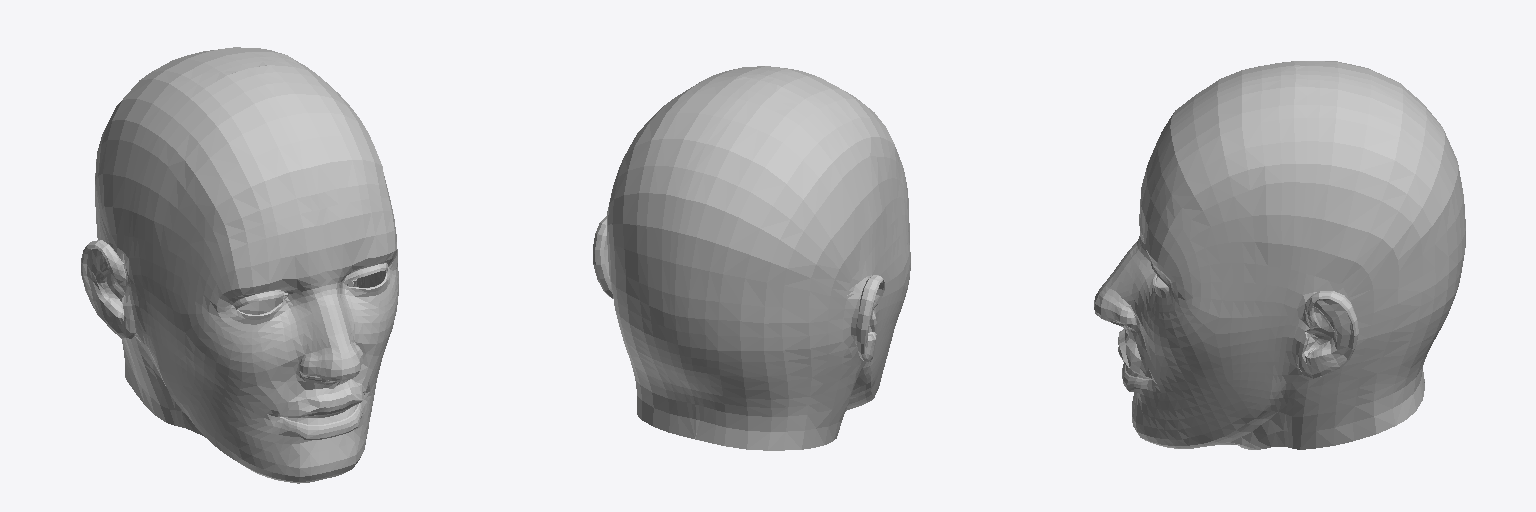
File: short_i.obj
3 views of the same model, side by side, from view 1: azimuth 30°, elevation 25°; view 2: azimuth 150°, elevation 25°; view 3: azimuth 270°, elevation 25° (orthographic).
Parts seen in each view (by area): view 1: Mesh_object0; view 2: Mesh_object0; view 3: Mesh_object0.
Boxes of the visible parts, <box> form: Mesh_object0: <box>81,47,398,483</box>; Mesh_object0: <box>593,66,910,450</box>; Mesh_object0: <box>1094,61,1465,449</box>.
Size of the model in its own units: 30.6 by 38.16 by 35.42.